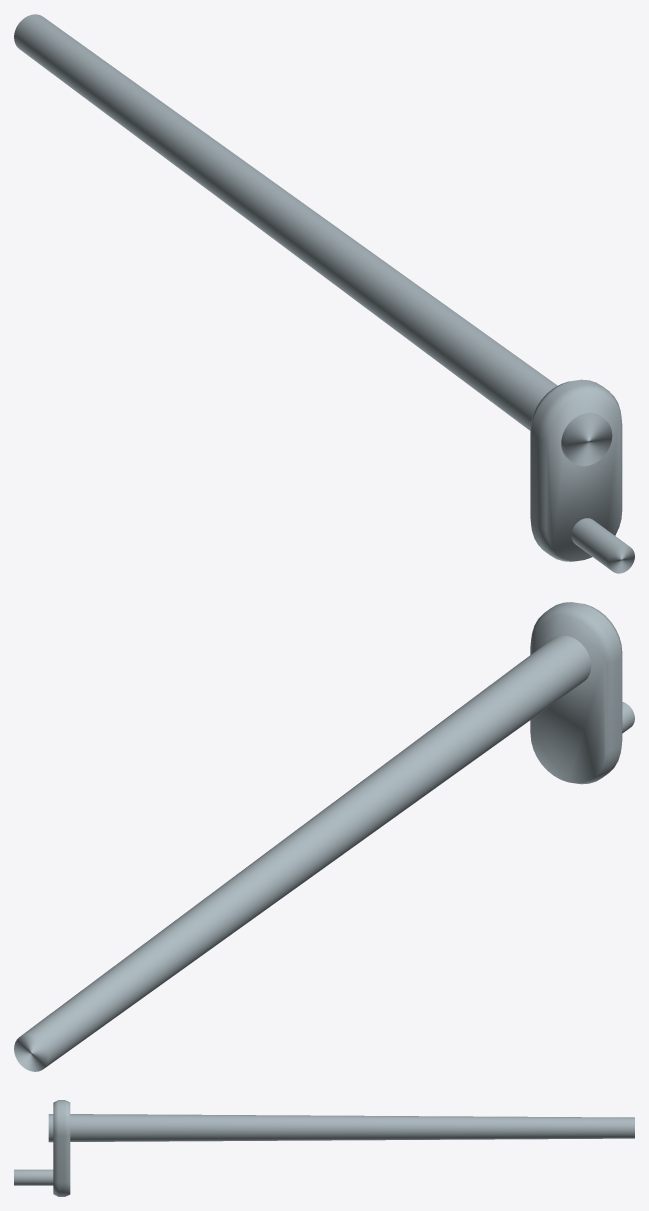
The model's file is campfire_spit.glb.
The picture shows the model from 3 angles, top to bottom: view 1: azimuth 30°, elevation 25°; view 2: azimuth 150°, elevation 25°; view 3: azimuth 270°, elevation 25°; orthographic projection. The views are drawn at different scales.
Visible parts, largest first — view 1: campfire_spit; view 2: campfire_spit; view 3: campfire_spit.
Boxes of the visible parts, x1,y1,x2,y2 form: campfire_spit: [14, 14, 634, 573]; campfire_spit: [14, 602, 634, 1071]; campfire_spit: [14, 1100, 634, 1196].
Size of the model in its own units: 0.4477 by 0.8931 by 5.45.
